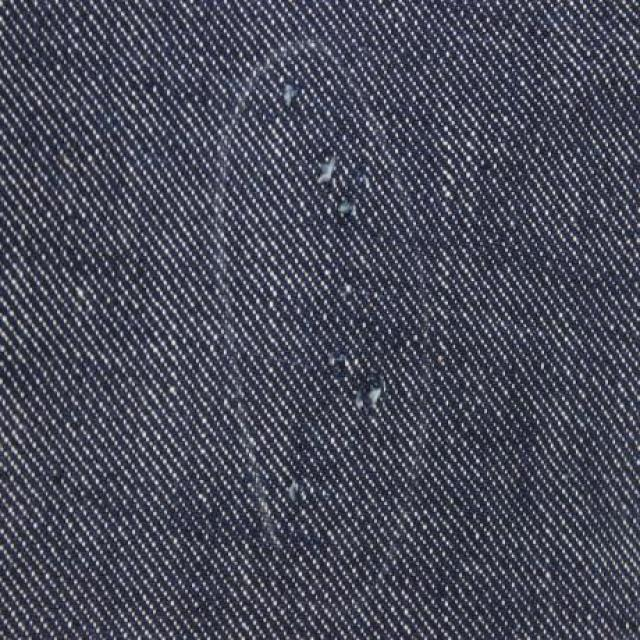stains: (288, 131, 420, 451)
